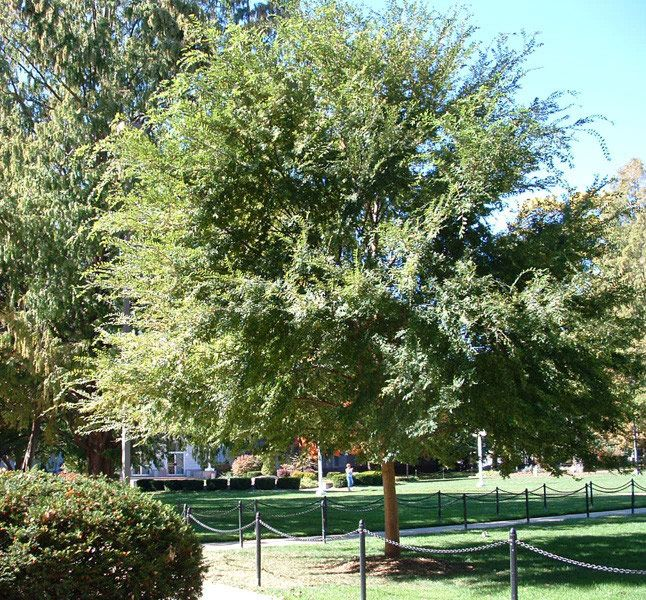tree: (52, 8, 639, 559)
